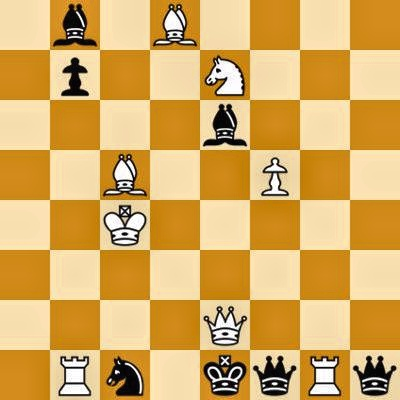black-bishop: (50, 0, 100, 50), (200, 100, 250, 150)
black-king: (200, 350, 250, 400)
black-knight: (100, 350, 150, 400)
black-pawn: (50, 50, 100, 100)
black-queen: (250, 350, 300, 400), (350, 350, 400, 400)
white-bishop: (150, 0, 200, 50), (100, 150, 150, 200)
white-king: (100, 200, 150, 250)
white-knight: (200, 50, 250, 100)
white-pawn: (250, 150, 300, 200)
white-queen: (200, 300, 250, 350)
white-rook: (50, 350, 100, 400), (300, 350, 350, 400)
